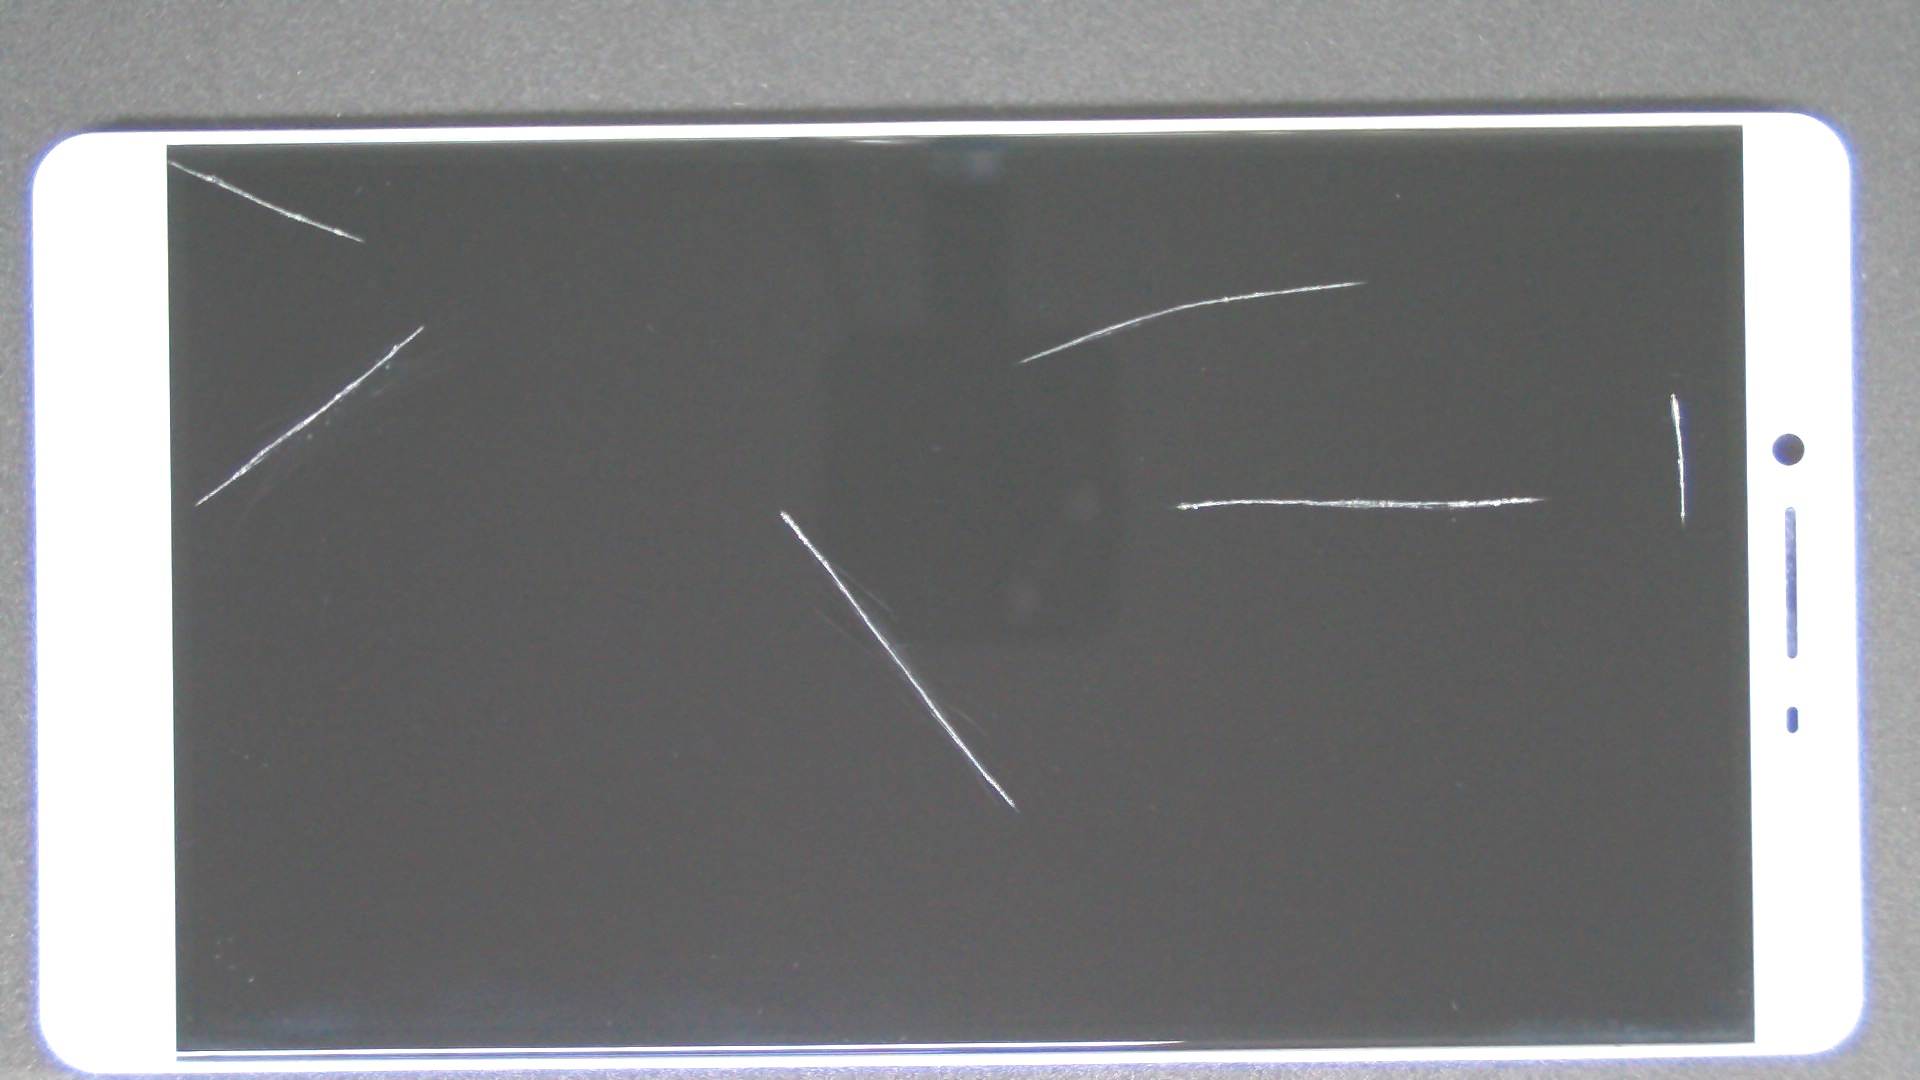oil: (756, 248, 1920, 745), (837, 195, 1920, 588), (389, 253, 1168, 765), (673, 140, 1920, 422), (212, 161, 632, 487), (84, 79, 253, 239)
